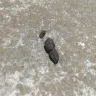Dog: (38, 30, 60, 64)
